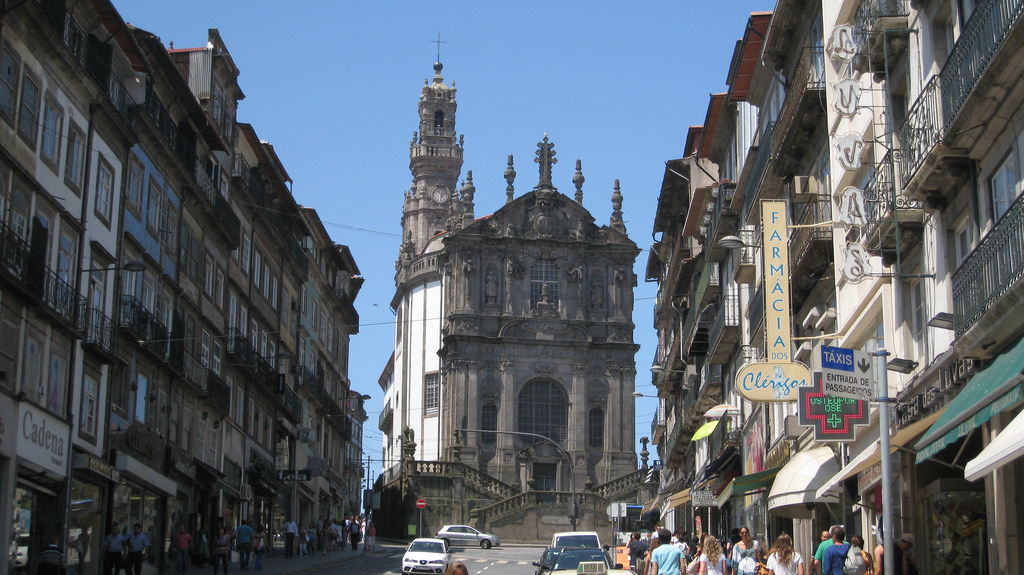clerigos: (395, 34, 477, 261)
